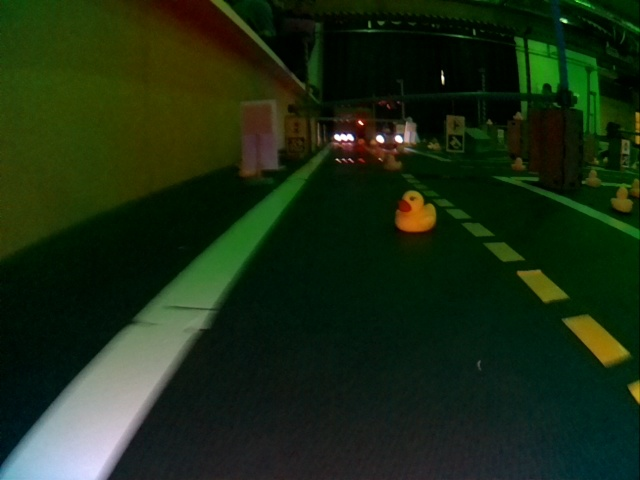Duckie: (396, 191, 436, 233), (611, 186, 631, 212), (585, 169, 599, 187), (385, 154, 402, 167), (511, 158, 526, 171)
Intersection sign: (447, 117, 463, 133)
